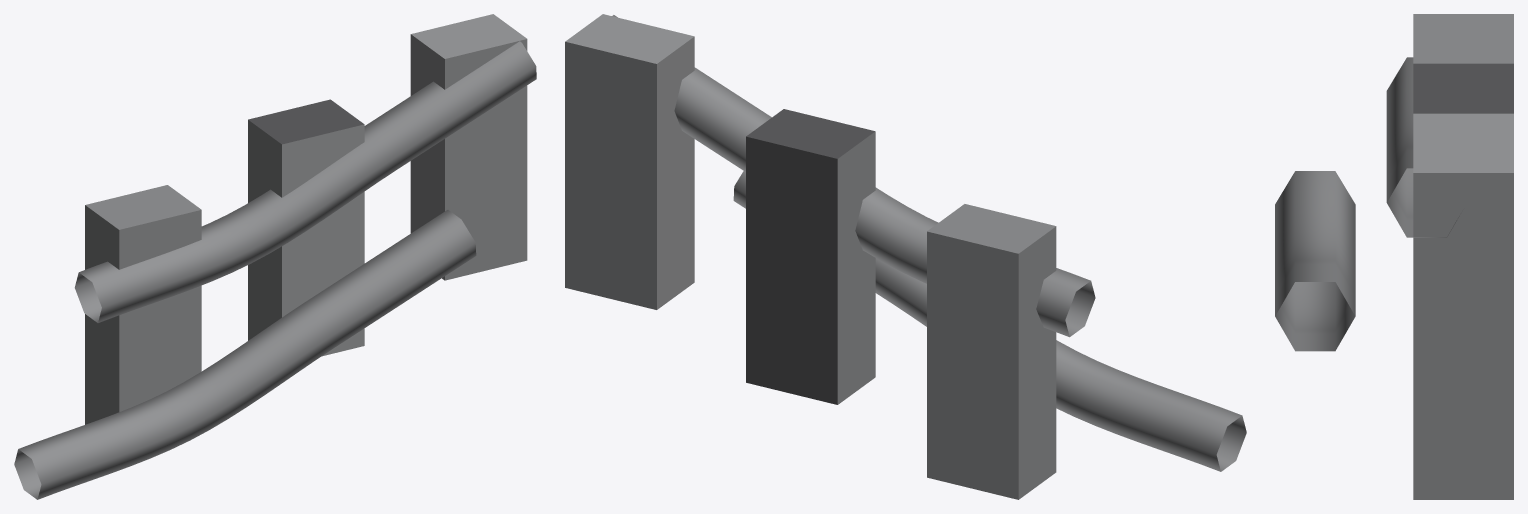
3 renders of one model, left to right at view 1: azimuth 30°, elevation 25°; view 2: azimuth 150°, elevation 25°; view 3: azimuth 270°, elevation 25°, orthographic. The views are drawn at different scales.
Bounding box in the file's own units: 0.4968 × 0.2737 × 0.1283.
